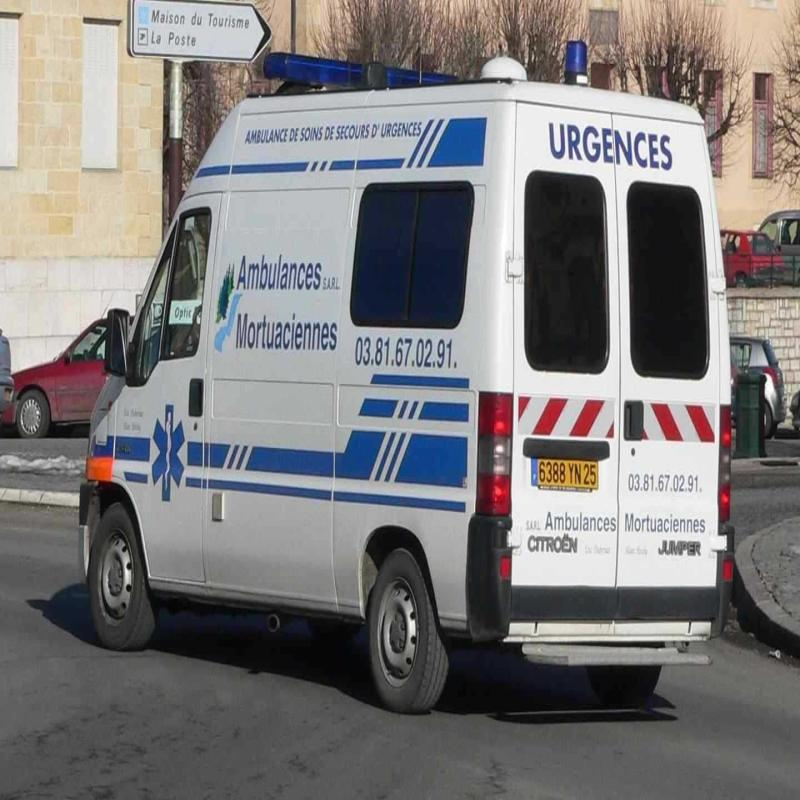AmbulanceSiren: (546, 48, 596, 106)
